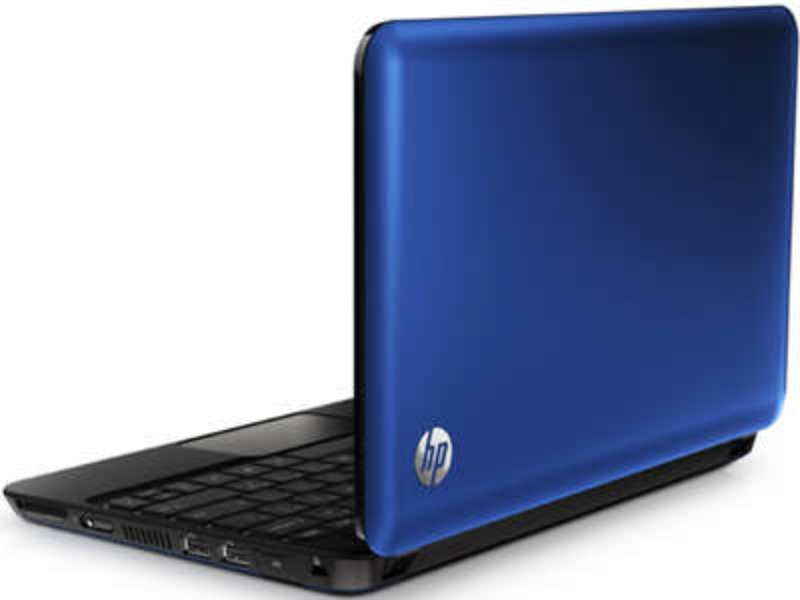hp: (412, 425, 456, 488)
